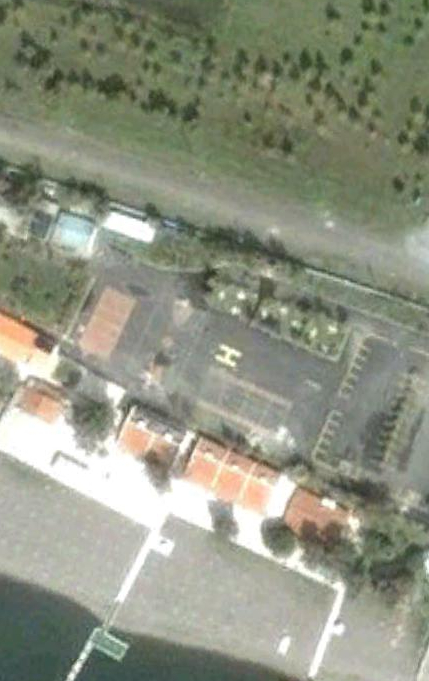heliport: (211, 340, 246, 371)
